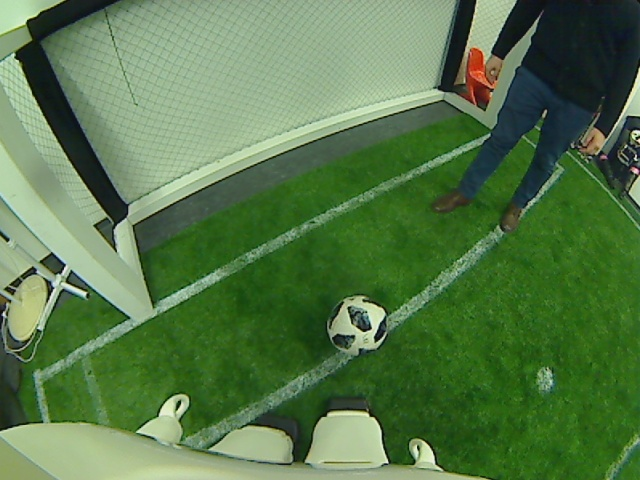ball: (326, 290, 387, 359)
